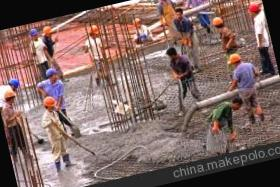no_helmet: (165, 43, 181, 61), (230, 94, 248, 110), (172, 4, 189, 20)
